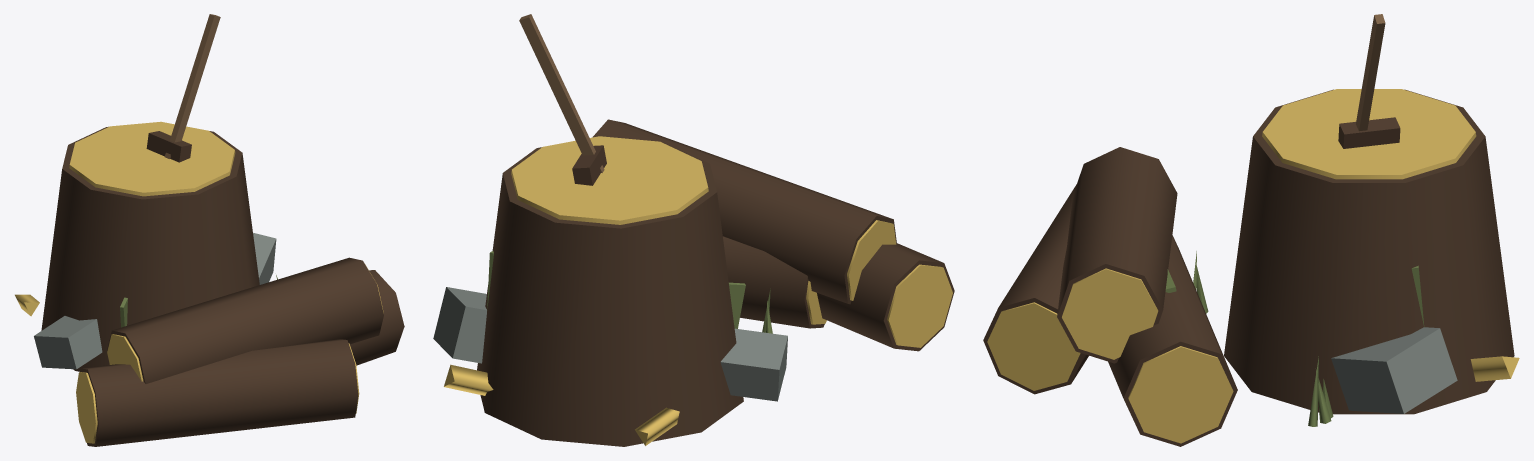
Rendered from log-pile-stump.glb.
3 renders of one model, left to right at view 1: azimuth 30°, elevation 25°; view 2: azimuth 150°, elevation 25°; view 3: azimuth 270°, elevation 25°, orthographic. The views are drawn at different scales.
Visible parts, largest first — view 1: Mesh_StumpBark, Mesh_Log2Bark, Mesh_Log3Bark, Mesh_StumpCut, Mesh_Stone2, Mesh_Log1Bark, Mesh_AxeHandle, Mesh_Log2Cut, Mesh_Log3Cut, Mesh_AxeHead, Mesh_Stone1; view 2: Mesh_StumpBark, Mesh_Log3Bark, Mesh_StumpCut, Mesh_Log2Bark, Mesh_Log1Bark, Mesh_Log2Cut, Mesh_Stone2, Mesh_Stone1, Mesh_AxeHandle, Mesh_Log3Cut, Mesh_Chip1, Mesh_AxeHead (+2 smaller); view 3: Mesh_StumpBark, Mesh_Log3Bark, Mesh_StumpCut, Mesh_Stone1, Mesh_Log1Cut, Mesh_Log1Bark, Mesh_Log3Cut, Mesh_Log2Cut, Mesh_Log2Bark, Mesh_AxeHandle, Mesh_AxeHead, Mesh_Chip1.
Boxes of the visible parts, box(x1,y1,x2,y2) form: Mesh_StumpBark: box(41, 126, 259, 371); Mesh_Log2Bark: box(79, 339, 358, 446); Mesh_Log3Bark: box(107, 257, 383, 383); Mesh_StumpCut: box(69, 121, 235, 196); Mesh_Stone2: box(34, 316, 102, 369); Mesh_Log1Bark: box(350, 270, 404, 365); Mesh_AxeHandle: box(164, 14, 220, 158); Mesh_Log2Cut: box(76, 343, 359, 443); Mesh_Log3Cut: box(107, 264, 383, 381); Mesh_AxeHead: box(146, 131, 191, 162); Mesh_Stone1: box(253, 233, 276, 284); Mesh_StumpBark: box(477, 142, 743, 446); Mesh_Log3Bark: box(592, 119, 896, 304); Mesh_StumpCut: box(511, 136, 708, 224); Mesh_Log2Bark: box(817, 243, 954, 351); Mesh_Log1Bark: box(723, 236, 824, 328); Mesh_Log2Cut: box(887, 264, 952, 347); Mesh_Stone2: box(720, 328, 787, 401); Mesh_Stone1: box(433, 287, 486, 363); Mesh_AxeHandle: box(519, 14, 604, 172); Mesh_Log3Cut: box(847, 220, 896, 300); Mesh_Chip1: box(444, 364, 493, 395); Mesh_AxeHead: box(572, 145, 606, 185); Mesh_StumpBark: box(1224, 89, 1514, 414); Mesh_Log3Bark: box(1057, 147, 1177, 363); Mesh_StumpCut: box(1262, 89, 1476, 179); Mesh_Stone1: box(1331, 327, 1457, 413); Mesh_Log1Cut: box(1128, 346, 1233, 443); Mesh_Log1Bark: box(1108, 235, 1237, 446); Mesh_Log3Cut: box(1062, 268, 1158, 359); Mesh_Log2Cut: box(987, 302, 1080, 390); Mesh_Log2Bark: box(983, 184, 1088, 394); Mesh_AxeHandle: box(1356, 14, 1385, 131); Mesh_AxeHead: box(1338, 117, 1400, 148); Mesh_Chip1: box(1470, 356, 1519, 381).
Size of the model in its own units: 0.9875 by 0.8677 by 1.11.
1 material, 1 textured.
